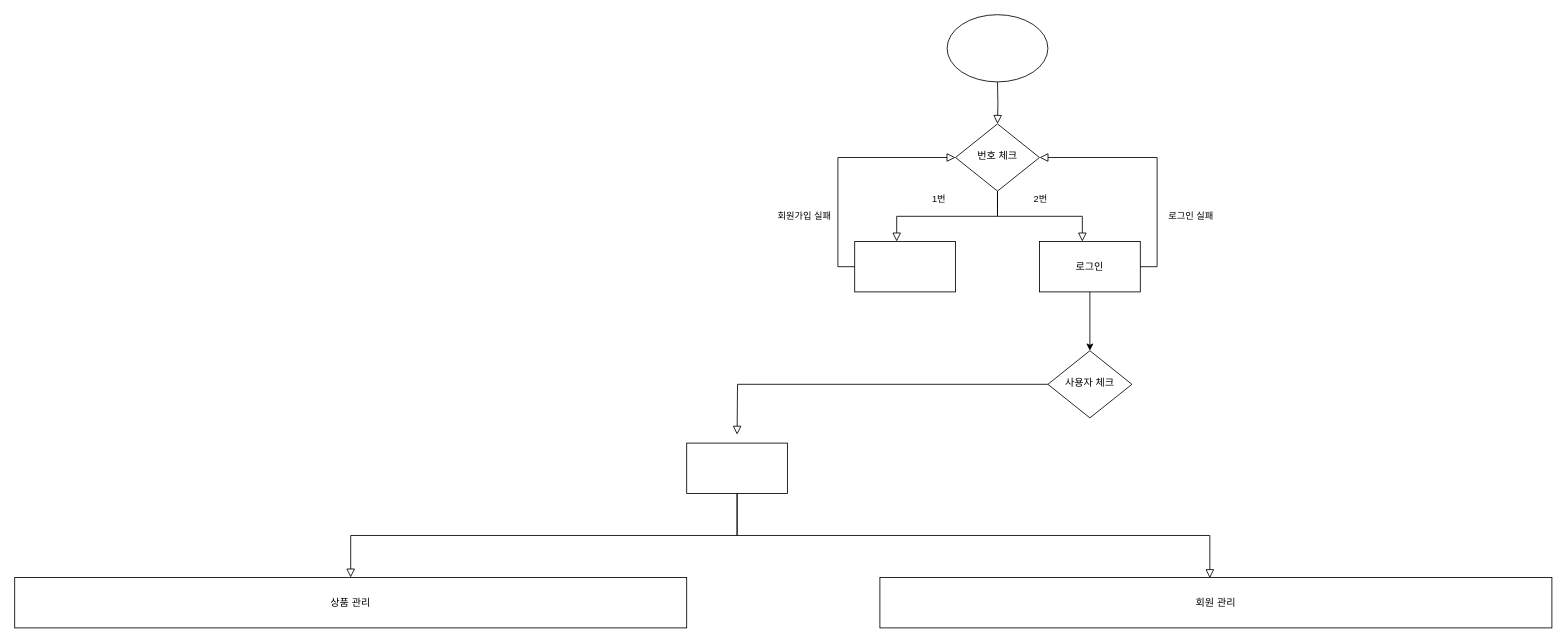
Some shapes in this 1567 by 643 pixel diagram are drawn without their labels. The centre of each missing label's shape, as x and y in pixels:
관리자: point 737,468
프로그램 시작: point 997,48
회원가입: point 905,266
